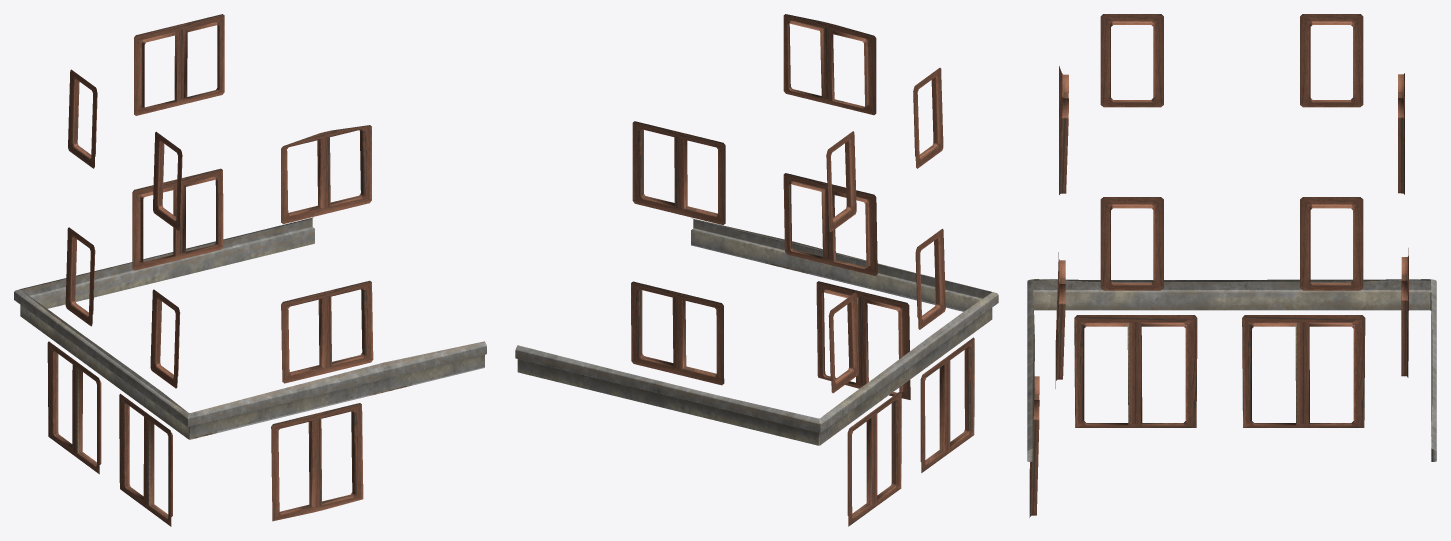
Rendered from SM_Brickbuilding_Trim.fbx.
3 views of the same model, side by side, from view 1: azimuth 30°, elevation 25°; view 2: azimuth 150°, elevation 25°; view 3: azimuth 270°, elevation 25° (orthographic). The views are drawn at different scales.
Visible parts, largest first — view 1: Object016; view 2: Object016; view 3: Object016.
Boxes of the visible parts, box(x1,y1,x2,y2) form: Object016: box(14, 14, 486, 526); Object016: box(515, 14, 998, 526); Object016: box(1027, 14, 1436, 517).
Bounding box in the file's own units: 1161 × 1351 × 1171.
